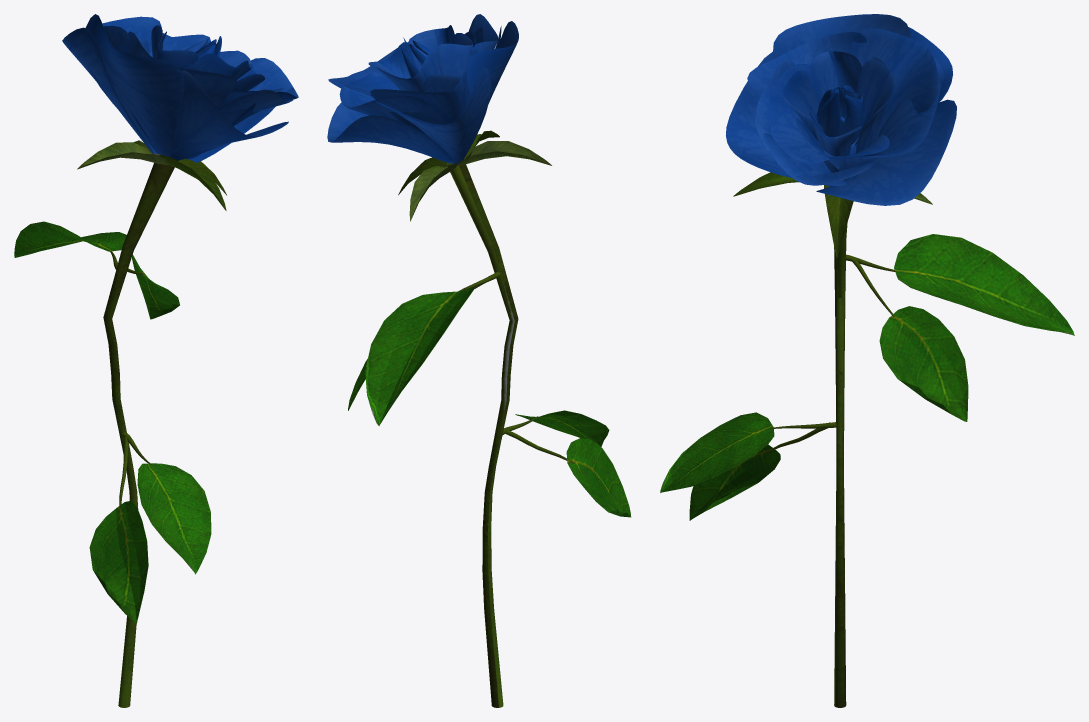
File: single-flower-rose-blue.glb
3 renders of one model, left to right at view 1: azimuth 30°, elevation 25°; view 2: azimuth 150°, elevation 25°; view 3: azimuth 270°, elevation 25°, orthographic. The views are drawn at different scales.
Visible parts, largest first — view 1: Plane.045, Plane.012, Cylinder.001, Plane.014, Plane.043, Plane.009, Plane.007, Plane.046, Plane.047, Plane.049, Plane.050, Plane.011 (+7 smaller); view 2: Plane.009, Cylinder.001, Plane.006, Plane.014, Plane.046, Plane.007, Plane.050, Plane.045, Plane.051, Plane.012, Plane.008, Plane.055 (+6 smaller); view 3: Plane.009, Plane.011, Plane.006, Cylinder.001, Plane.012, Plane.050, Plane.014, Plane.043, Plane.045, Plane.051, Plane.053, Plane.055 (+11 smaller).
Boxes of the visible parts, x1,y1,x2,y2 form: Plane.045: (85, 14, 184, 156); Plane.012: (137, 463, 211, 574); Cylinder.001: (103, 163, 174, 707); Plane.014: (89, 500, 148, 623); Plane.043: (170, 70, 288, 160); Plane.009: (14, 221, 126, 257); Plane.007: (77, 140, 226, 210); Plane.046: (62, 27, 163, 153); Plane.047: (119, 31, 237, 154); Plane.049: (187, 58, 298, 159); Plane.050: (102, 16, 161, 52); Plane.011: (132, 254, 179, 319); Plane.009: (365, 287, 475, 425); Cylinder.001: (446, 159, 518, 707); Plane.006: (327, 102, 452, 163); Plane.014: (566, 438, 631, 517); Plane.046: (375, 67, 490, 164); Plane.007: (398, 130, 551, 221); Plane.050: (370, 48, 477, 137); Plane.045: (458, 21, 518, 148); Plane.051: (339, 85, 442, 124); Plane.012: (515, 410, 609, 446); Plane.008: (436, 33, 473, 77); Plane.055: (376, 51, 441, 92); Plane.009: (894, 234, 1074, 335); Plane.011: (879, 306, 968, 421); Plane.006: (816, 99, 956, 205); Cylinder.001: (834, 223, 847, 707); Plane.012: (660, 412, 774, 492); Plane.050: (849, 28, 938, 131); Plane.014: (689, 444, 780, 520); Plane.043: (726, 51, 792, 178); Plane.045: (773, 14, 910, 53); Plane.051: (839, 76, 940, 179); Plane.053: (767, 64, 832, 163); Plane.055: (855, 58, 895, 153).
Bounding box in the file's own units: 4.99 × 13.74 × 7.48.
Materials: 2 (2 with a texture image).
